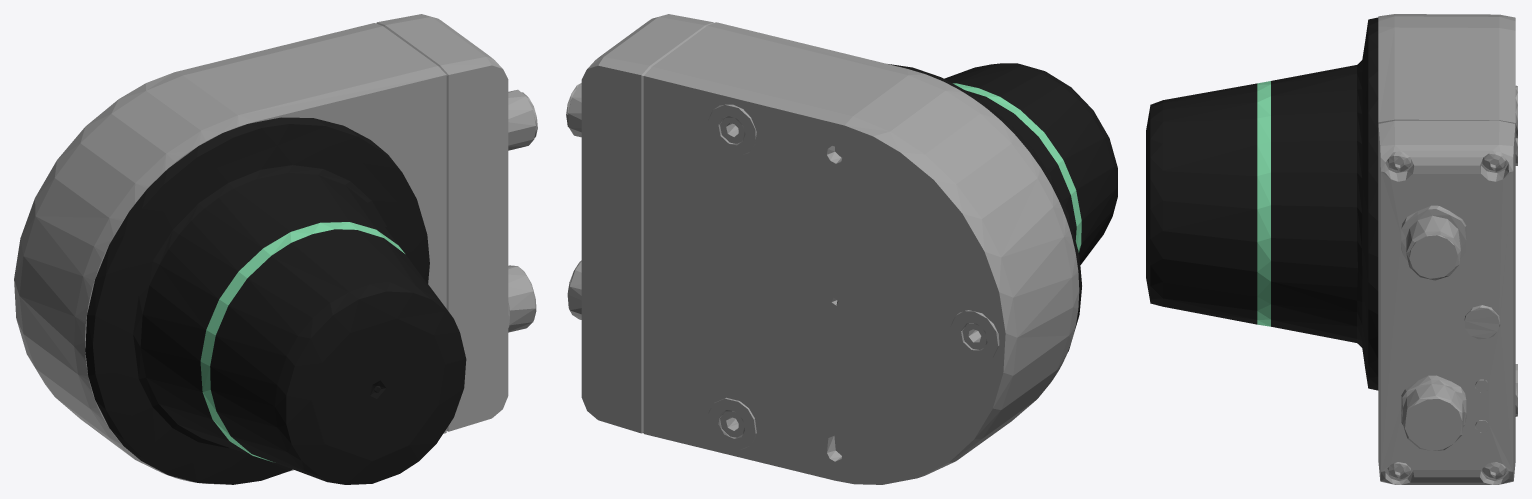
3 views of the same model, side by side, from view 1: azimuth 30°, elevation 25°; view 2: azimuth 150°, elevation 25°; view 3: azimuth 270°, elevation 25° (orthographic). The views are drawn at different scales.
Parts seen in each view (by area): view 1: Body2 (×10); view 2: Body2 (×9); view 3: Body2 (×10).
Part boxes in pixels (box(x1,y1,x2,y2)): Body2 (×10): box(14, 14, 537, 484); Body2 (×9): box(566, 14, 1117, 484); Body2 (×10): box(1146, 14, 1517, 484).
Size of the model in its own units: 1113 by 820 by 800.
